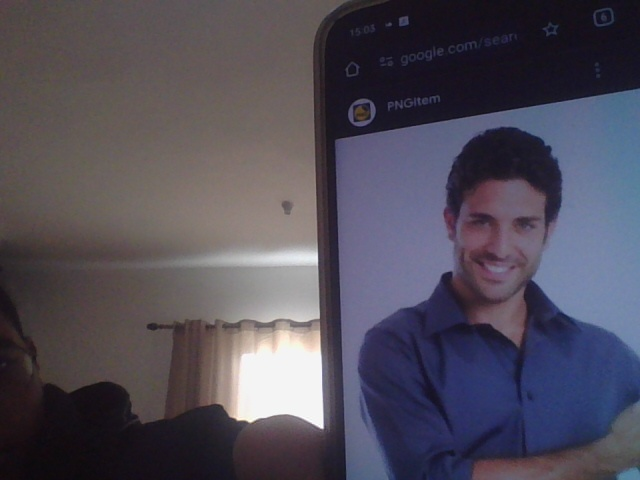fake: (444, 143, 556, 302)
